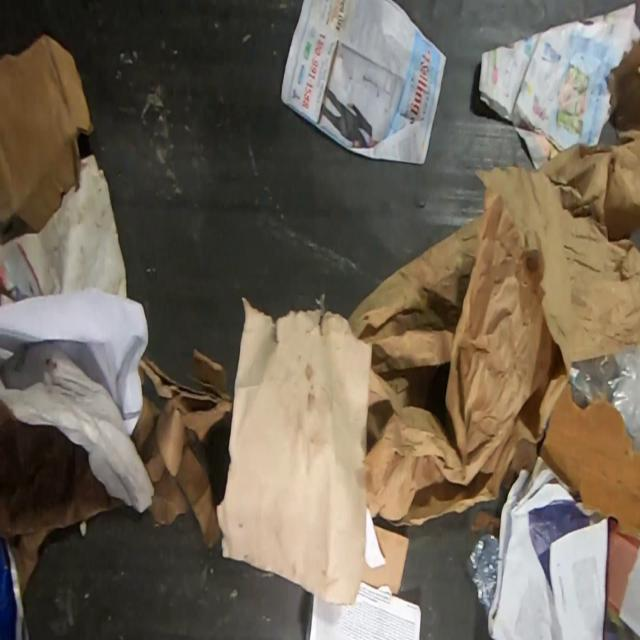cardboard: (216, 297, 374, 606), (0, 34, 94, 245), (540, 382, 640, 540), (361, 525, 410, 594), (606, 516, 639, 616), (472, 510, 500, 538)
soft_plastic: (569, 344, 640, 447), (468, 530, 500, 618)
